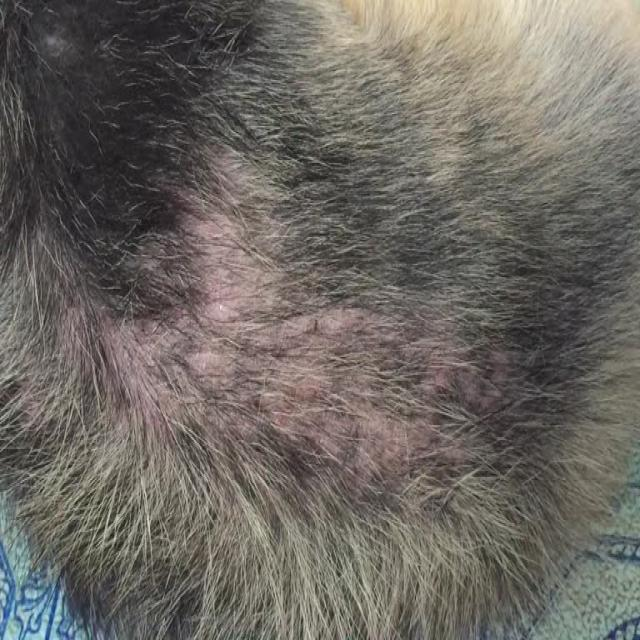mange: (45, 74, 518, 548)
